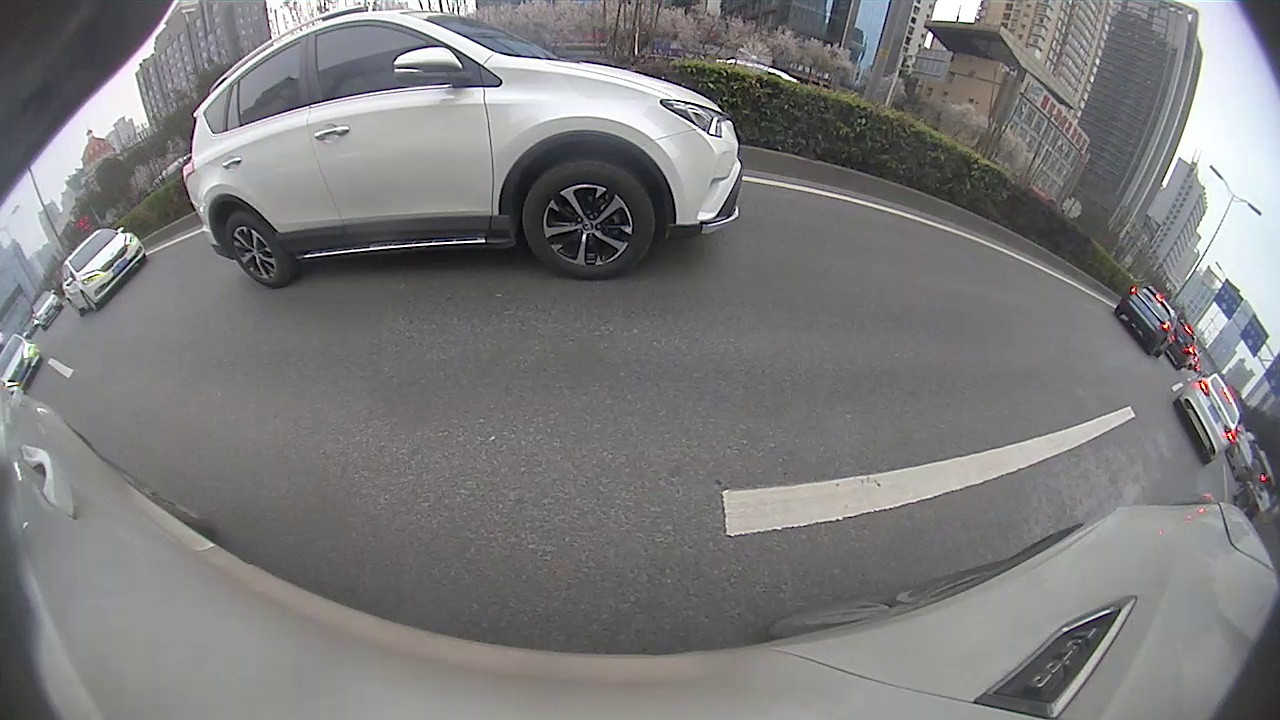car: (182, 4, 744, 289), (58, 226, 147, 317), (1173, 368, 1244, 463), (1113, 282, 1179, 358), (1, 331, 44, 394)
front: (526, 163, 655, 280)
rear: (230, 215, 284, 288)
